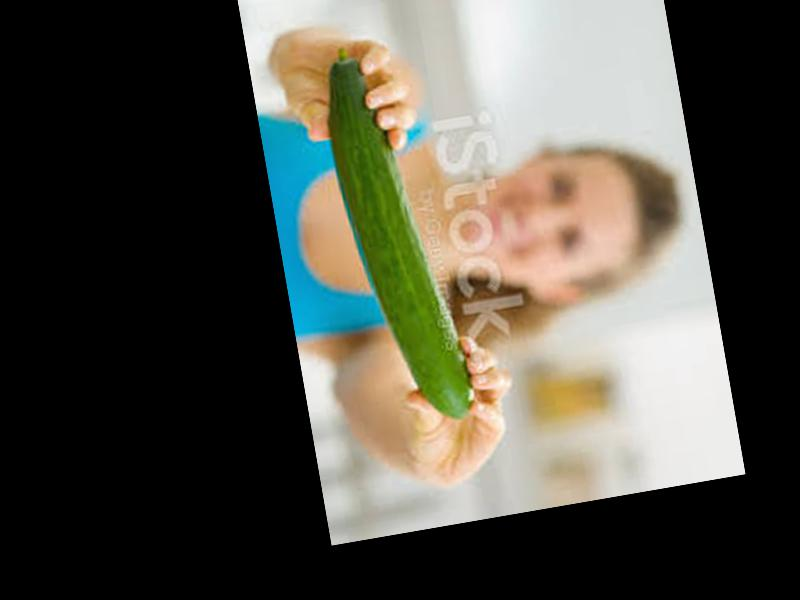Cucumber: (315, 37, 473, 433)
